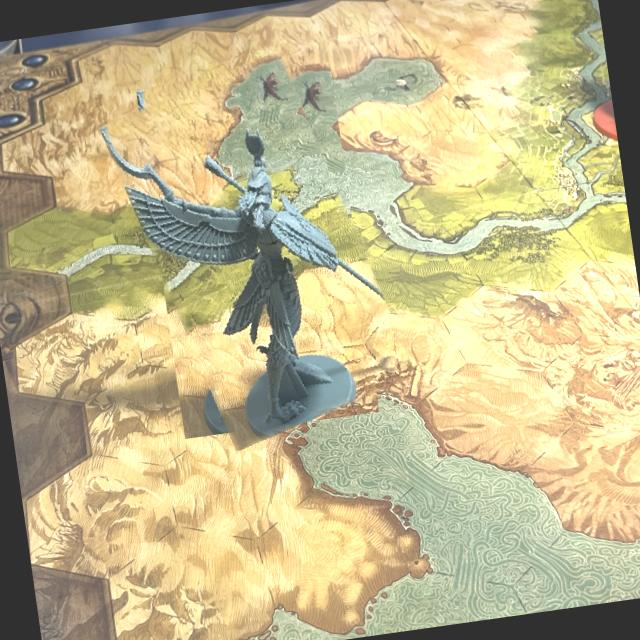isis: (114, 49, 401, 452)
